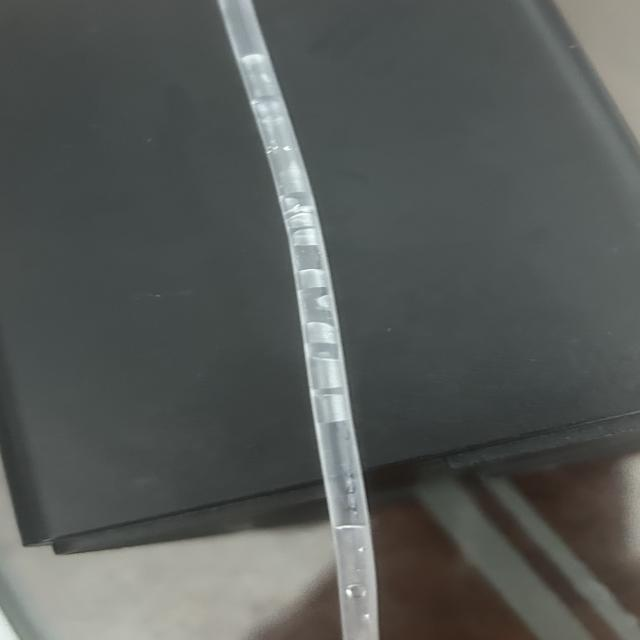bubble: (328, 524, 381, 587), (231, 52, 286, 93), (310, 395, 367, 432), (301, 354, 345, 386), (299, 317, 353, 342), (290, 231, 316, 257), (299, 268, 328, 291), (336, 581, 364, 604), (320, 298, 340, 315), (280, 193, 298, 210)
